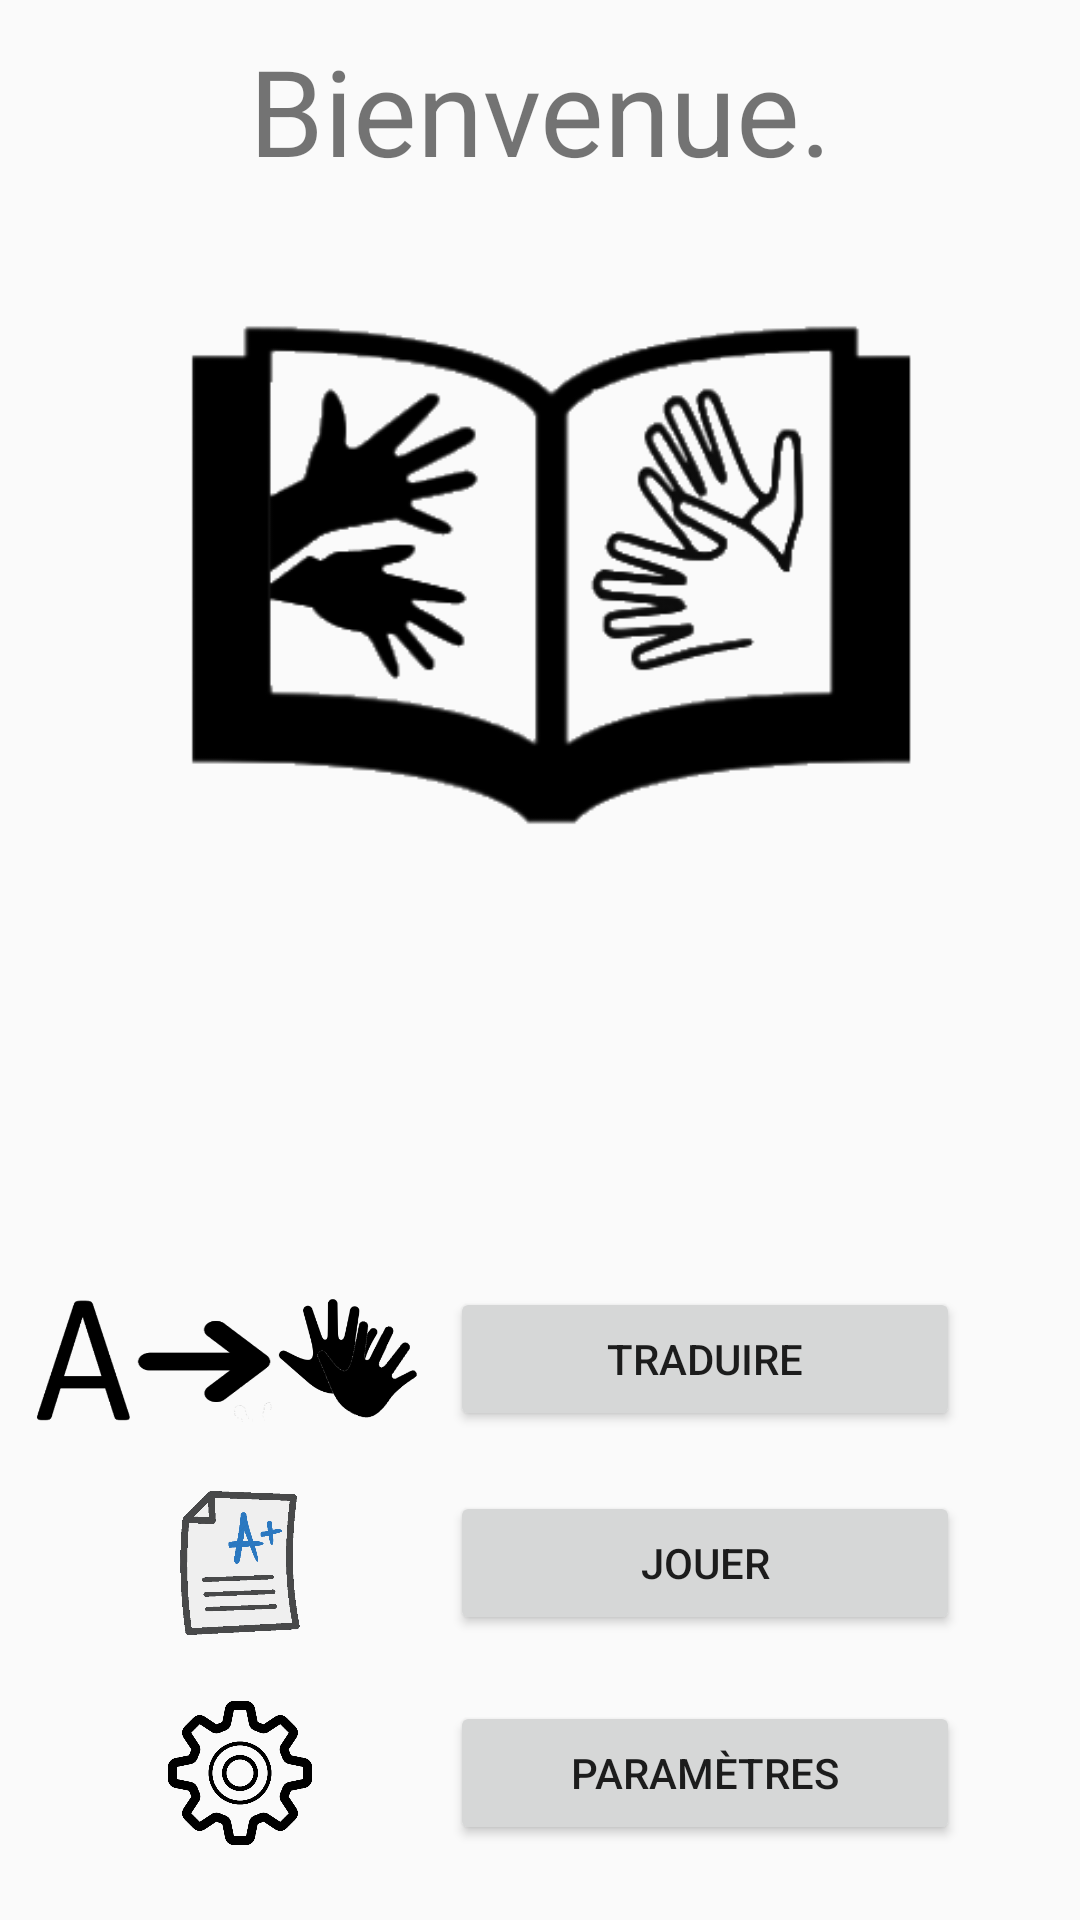

Icon bounding boxes for this 1080w x 1920h phone screenshot, format {"left": x1, "top": y1, "right": x2, "bottom": y2}:
parametres: {"left": 168, "top": 1701, "right": 312, "bottom": 1845}
testjour: {"left": 180, "top": 1491, "right": 300, "bottom": 1635}
